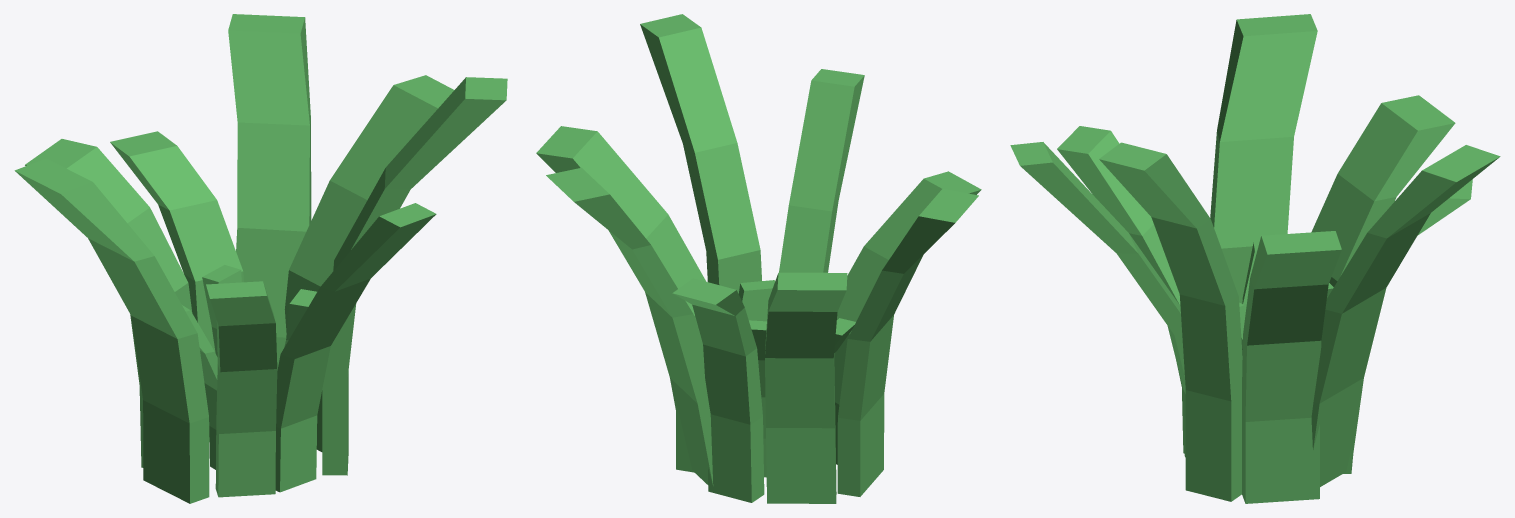
The model's file is Grass__1.glb.
3 renders of one model, left to right at view 1: azimuth 30°, elevation 25°; view 2: azimuth 150°, elevation 25°; view 3: azimuth 270°, elevation 25°, orthographic. The views are drawn at different scales.
Visible parts, largest first — view 1: Grass #1; view 2: Grass #1; view 3: Grass #1.
Boxes of the visible parts, <box> form: Grass #1: <box>14,14,507,503</box>; Grass #1: <box>536,14,981,503</box>; Grass #1: <box>1010,14,1500,503</box>.
Size of the model in its own units: 0.2772 by 0.2297 by 0.2608.
